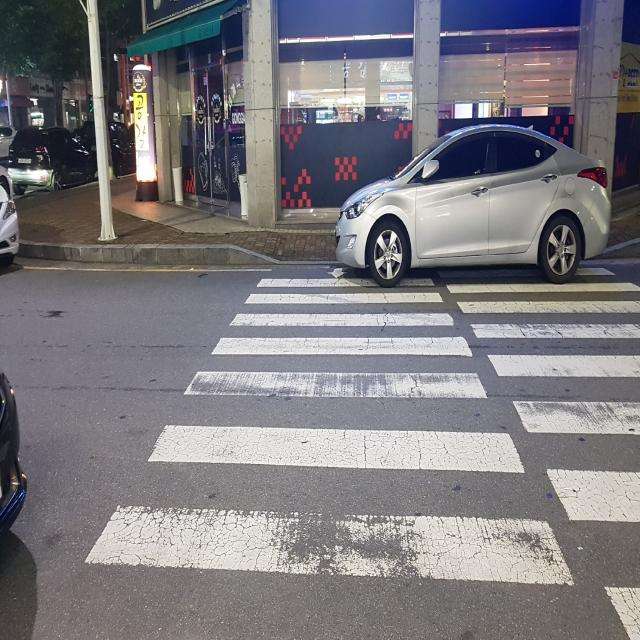횡단보도: (81, 258, 640, 640)
